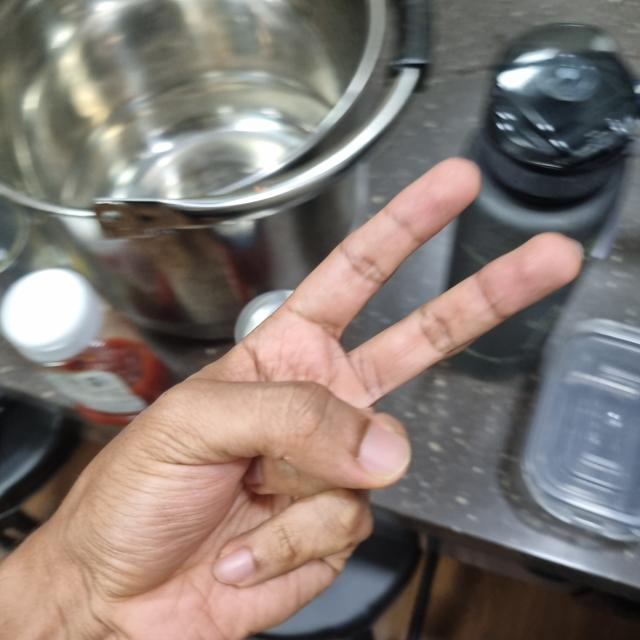Scissors: (1, 161, 581, 640)
